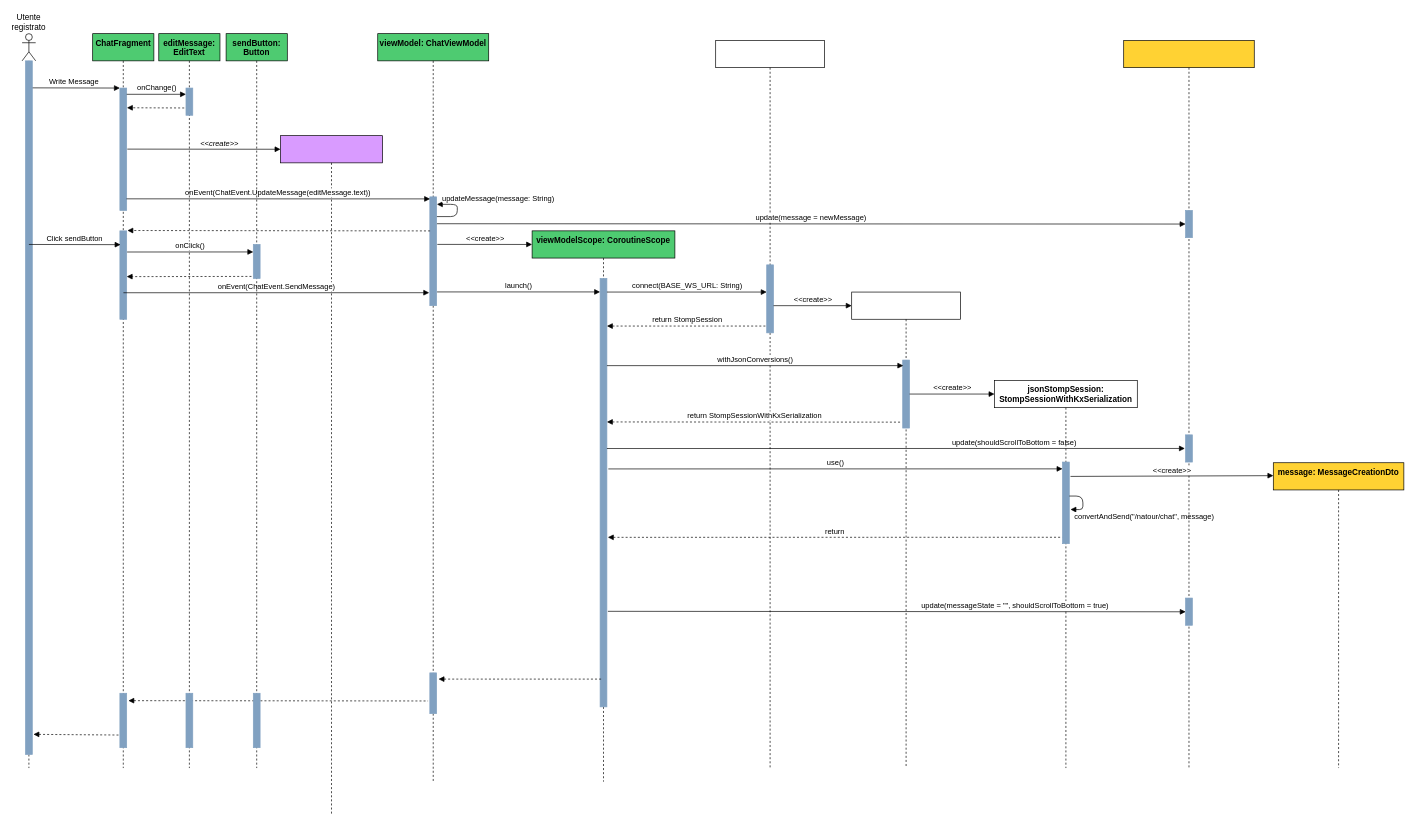
The diagram is 1416 pixels wide and 828 high, and some of its shapes have lost their labels. The box of each missing label's shape, as (x1, y1, x2, y2) in pixels:
<<sealed>> ChatEvent: (280, 135, 382, 816)
_uiState: MutableStateFlow<ChatUiState>: (1123, 40, 1254, 768)
client: StompClient: (715, 40, 825, 768)
session: StompSession: (851, 291, 961, 768)
